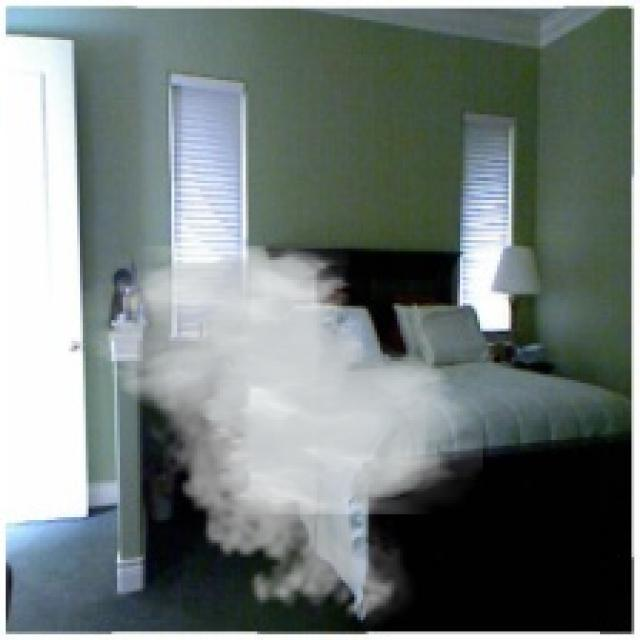Smoke: (83, 246, 483, 628)
